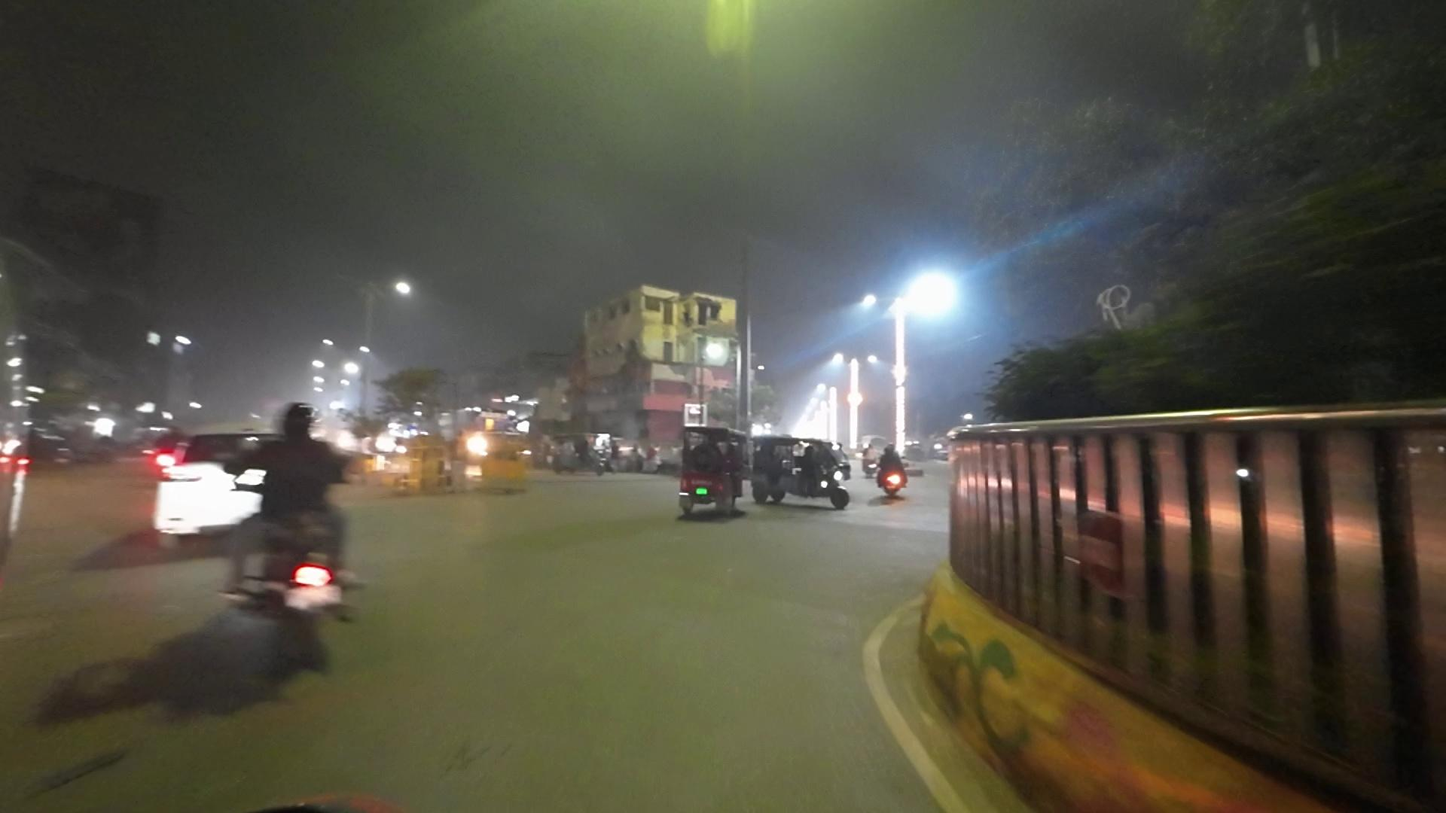streetlight: (336, 272, 366, 287)
